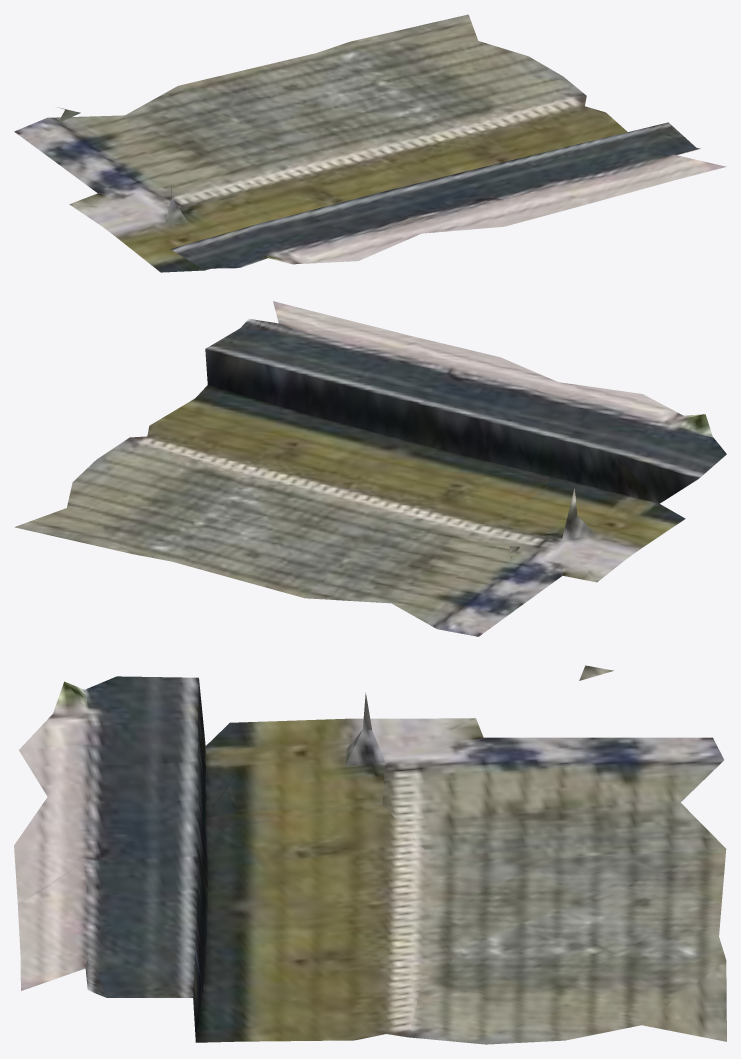
The model's file is Tile_+003_+008_L16_0.glb.
The picture shows the model from 3 angles, top to bottom: view 1: azimuth 30°, elevation 25°; view 2: azimuth 150°, elevation 25°; view 3: azimuth 270°, elevation 25°; orthographic projection. The views are drawn at different scales.
Visible parts, largest first — view 1: rtc; view 2: rtc; view 3: rtc.
Boxes of the visible parts, box(x1,y1,x2,y2) form: rtc: box(14, 14, 726, 272); rtc: box(14, 301, 726, 636); rtc: box(14, 665, 726, 1044).
Size of the model in its own units: 60.98 by 6.92 by 55.4.
1 material, 1 textured.
